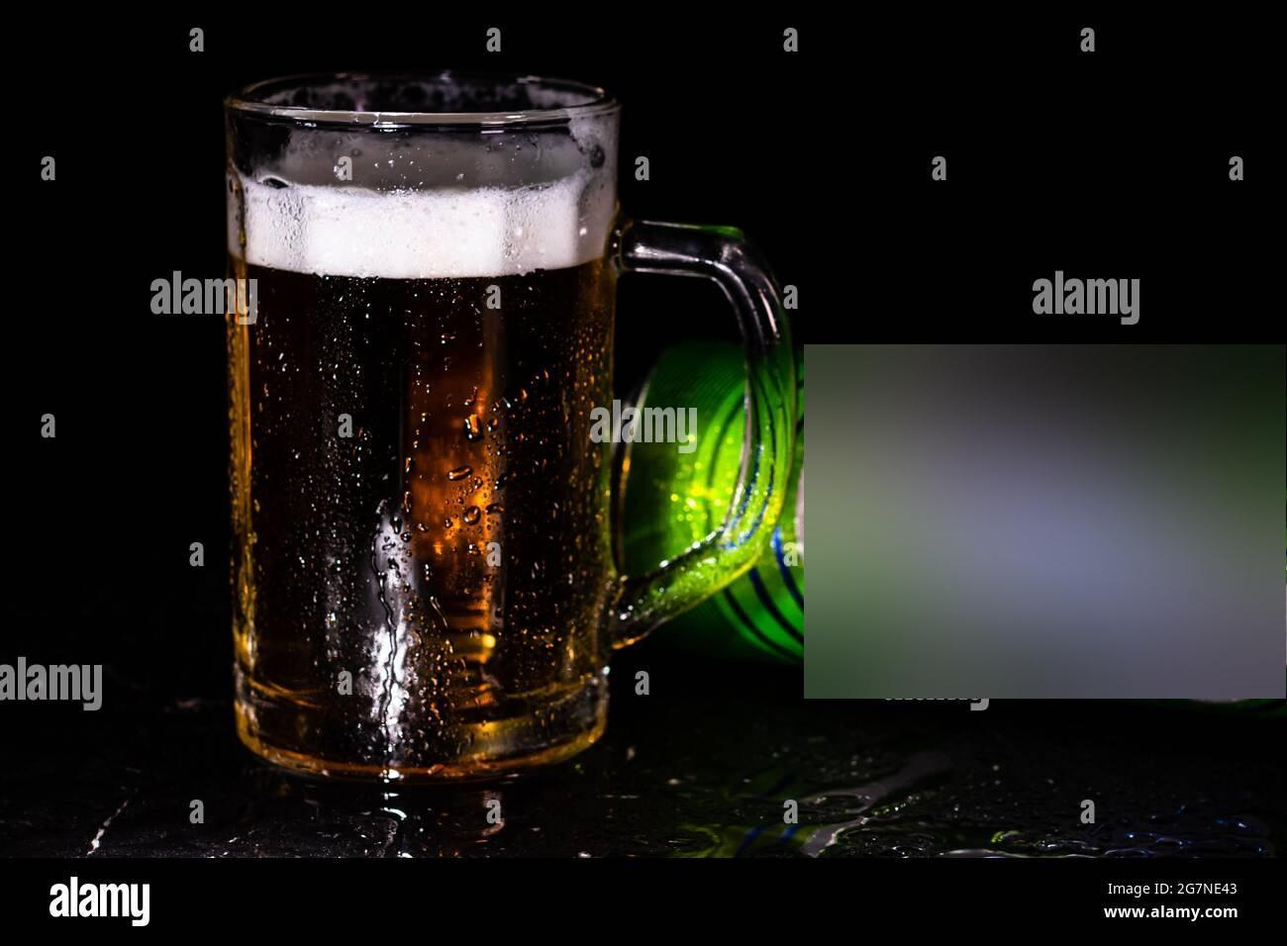glass-mug: (216, 59, 802, 786)
